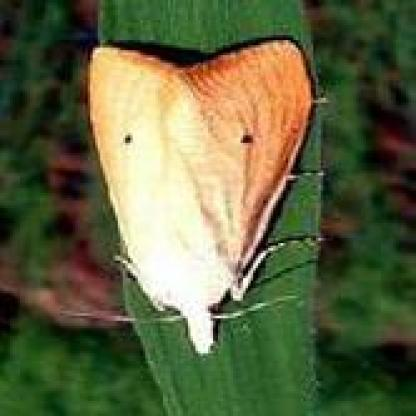stem-borer: (85, 28, 325, 357)
